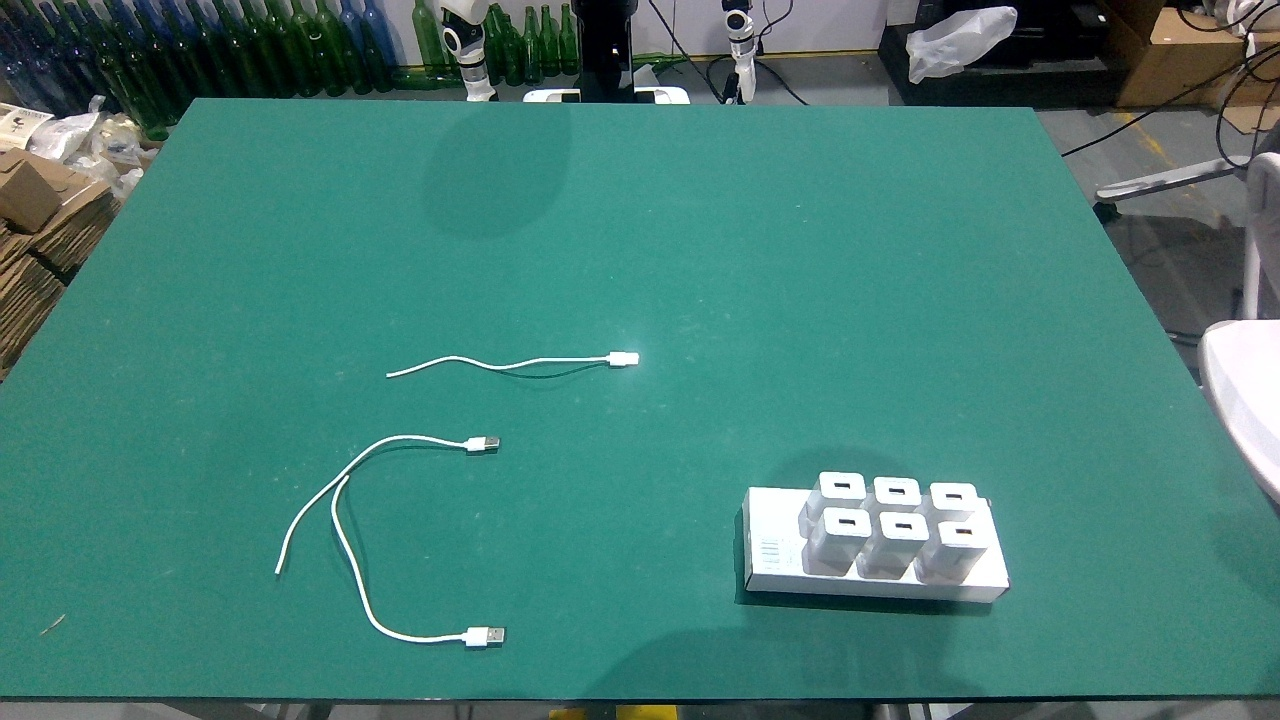usb_a_port: (952, 526, 974, 537), (836, 517, 857, 528), (893, 521, 914, 532), (887, 486, 907, 496), (833, 481, 852, 491), (944, 492, 964, 501)
